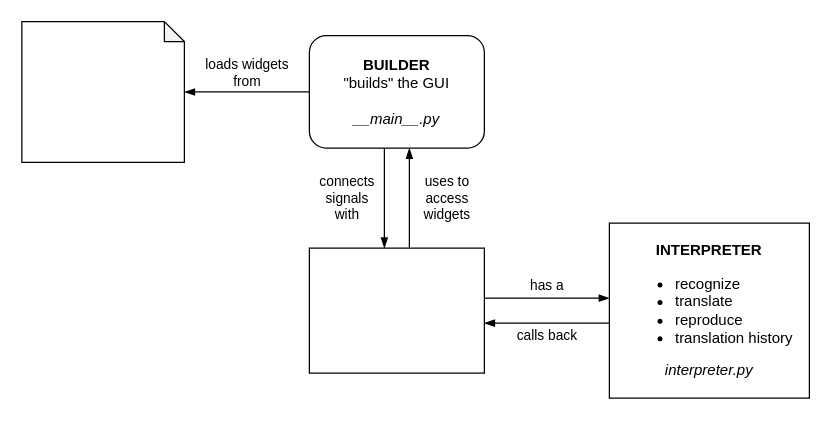
Image size: 831x421. Some labels were removed from this diagram. Each missing label, with the box of its shape:
Graphical User Interface (GUI) describes app appearance gui.glade (XML file): (21, 20, 184, 162)
HANDLER manages GUI responsibility handler.py: (308, 247, 484, 373)
